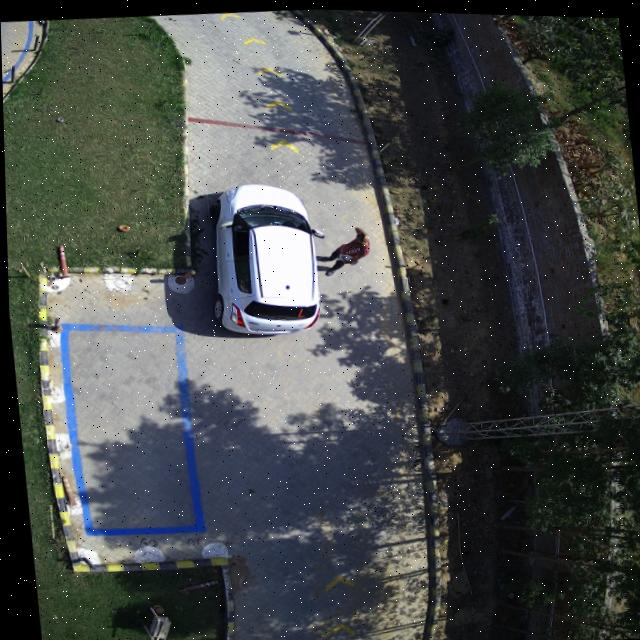car: (208, 182, 320, 334)
